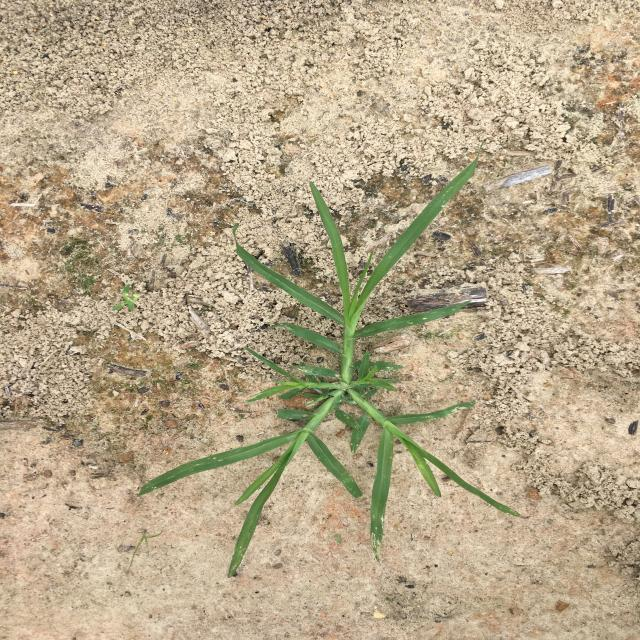Goosegrass: (137, 158, 520, 578)
